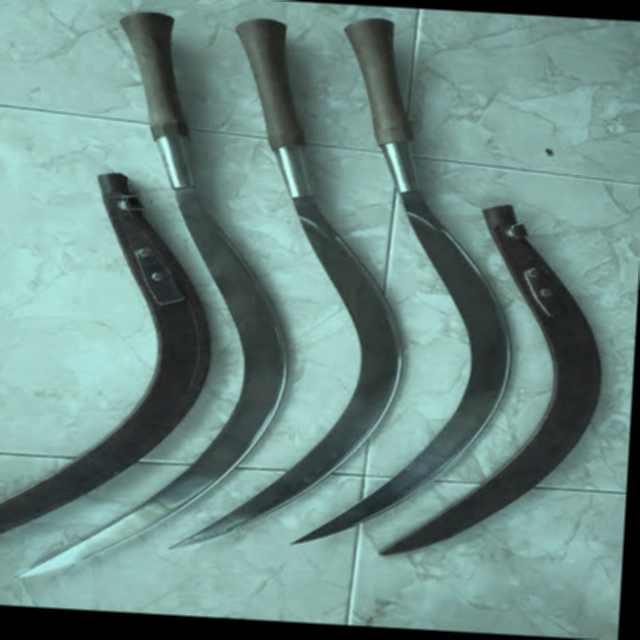Sharp-Object: (7, 3, 325, 600), (171, 9, 429, 566), (317, 15, 529, 591)
